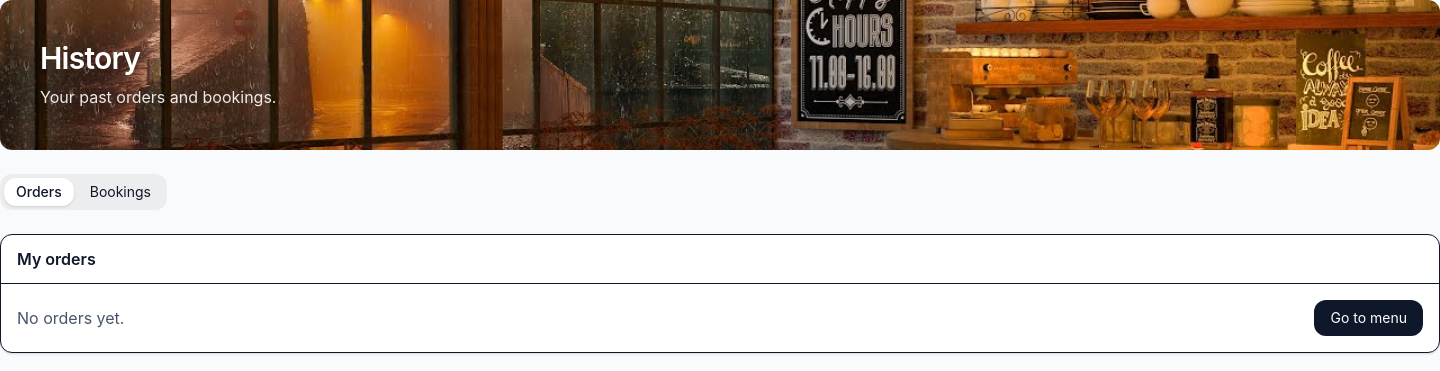
it: HistoryPage (integration) › shows empty states for both tabs
This screenshot has width=1440, height=371.
Expected: the text "No orders yet." is shown, left=17, top=306, right=124, bottom=330
Click the tab "Bookings" at (120, 192), box left=78, top=178, right=163, bottom=206
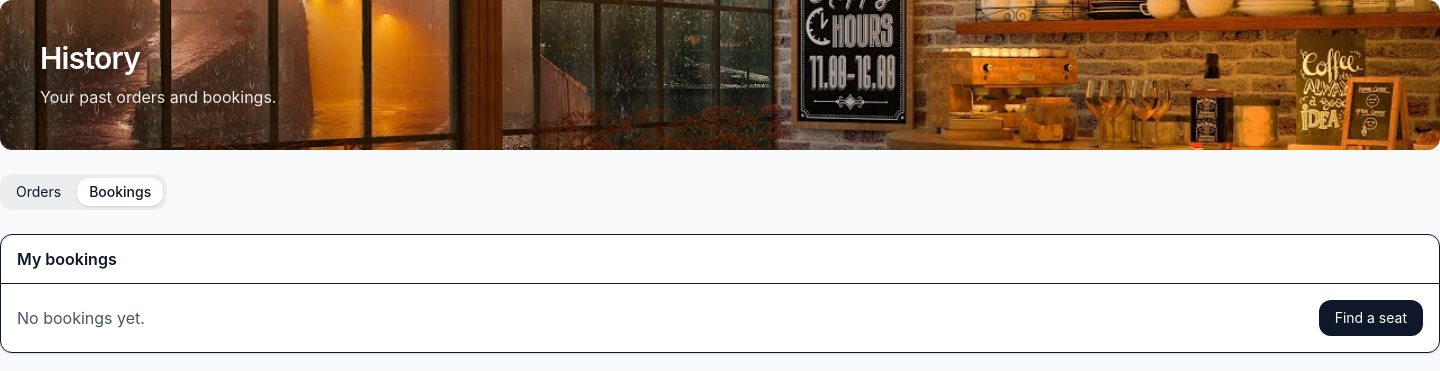
Result: the text "No bookings yet." is shown at left=17, top=306, right=145, bottom=330
